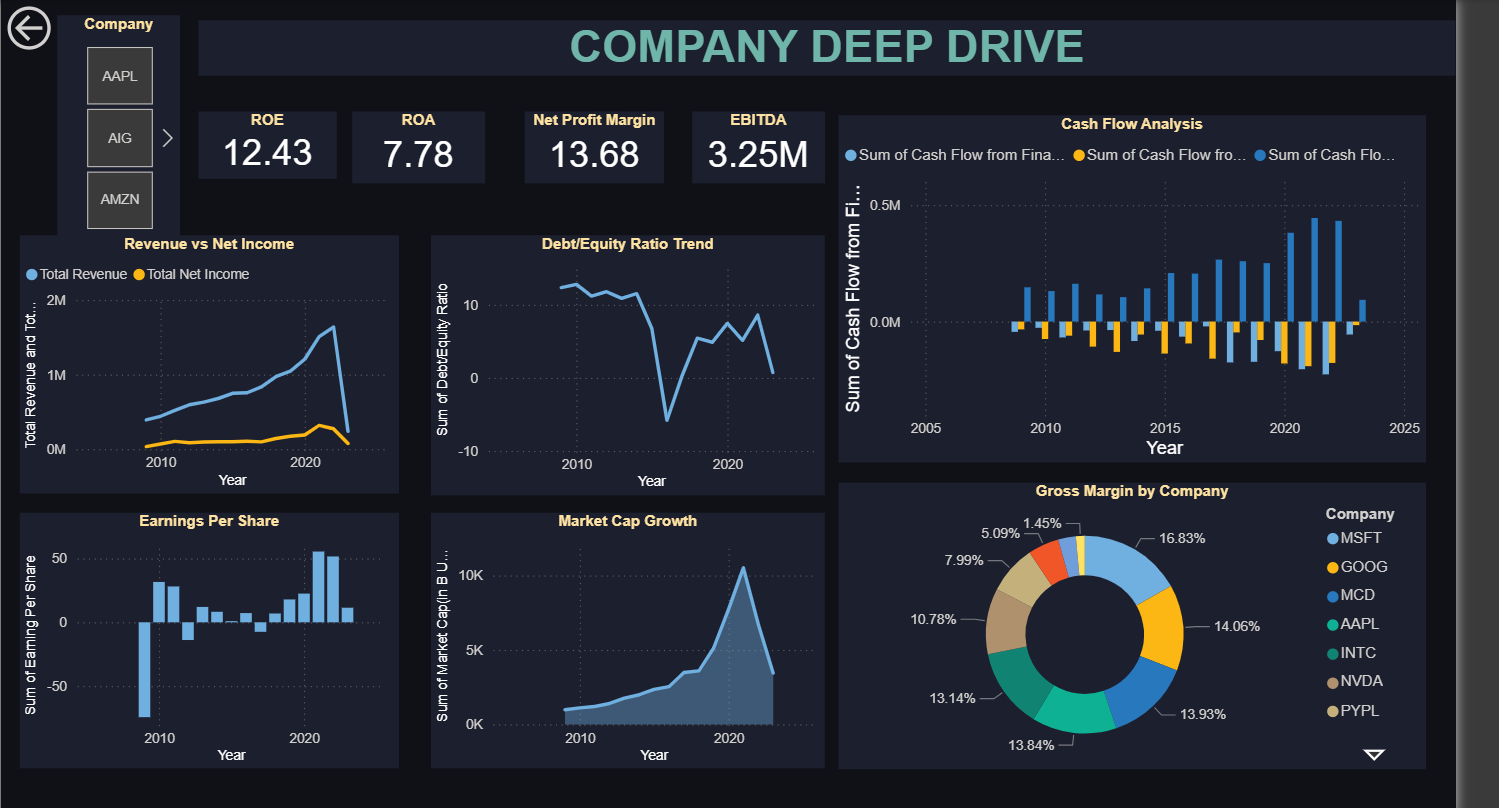

Layout of this report page (visuals, bound fields, positions):
{"tool":"powerbi","page":{"name":"Company Deep Drive","canvas":[1280,720],"ordinal":1},"visuals":[{"type":"actionButton","box":[0,0,49.5,51.7],"z":0},{"type":"textbox","title":"COMPANY DEEP DRIVE","box":[173.8,19,1106,48.8],"z":1000},{"type":"slicer","title":"Company","fields":{"Values":["Financial Statements.Company "]},"box":[50,14.3,108.3,194],"z":2000},{"type":"card","title":"ROE","fields":{"Values":["Avg(Financial Statements.ROE)"]},"box":[173.8,98.8,121.4,59.5],"z":3000},{"type":"card","title":"ROA","fields":{"Values":["Avg(Financial Statements.ROA)"]},"box":[309.5,98.8,116.7,63.1],"z":4000},{"type":"card","title":"Net Profit Margin","fields":{"Values":["Avg(Financial Statements.Net Profit Margin)"]},"box":[460.7,98.8,122.6,63.1],"z":5000},{"type":"card","title":"EBITDA","fields":{"Values":["Financial Statements.Total EBITDA"]},"box":[608.3,98.8,116.7,63.1],"z":6000},{"type":"lineChart","title":" Revenue vs Net Income","fields":{"Category":["Financial Statements.Year"],"Y":["Financial Statements.Total Revenue","Financial Statements.Total Net Income"]},"box":[16.7,208.3,333.3,227],"z":7000},{"type":"clusteredColumnChart","title":"Cash Flow Analysis","fields":{"Category":["Financial Statements.Year"],"Y":["Sum(Financial Statements.Cash Flow from Financial Activities)","Sum(Financial Statements.Cash Flow from Investing)","Sum(Financial Statements.Cash Flow from Operating)"]},"box":[736.9,102.4,516.7,306],"z":8000},{"type":"lineChart","title":"Debt/Equity Ratio Trend","fields":{"Category":["Financial Statements.Year"],"Y":["Sum(Financial Statements.Debt/Equity Ratio)"]},"box":[378.6,208.3,346.4,228.6],"z":9000},{"type":"clusteredColumnChart","title":"Earnings Per Share","fields":{"Category":["Financial Statements.Year"],"Y":["Sum(Financial Statements.Earning Per Share)"]},"box":[16.7,452.4,333.3,225],"z":10000},{"type":"areaChart","title":" Market Cap Growth","fields":{"Category":["Financial Statements.Year"],"Y":["Sum(Financial Statements.Market Cap(in B USD))"]},"box":[378.6,452.4,346.4,225],"z":11000},{"type":"donutChart","title":"Gross Margin by Company","fields":{"Category":["Financial Statements.Company "],"Y":["Financial Statements.Avg Gross Margin %"]},"box":[736.9,425,516.7,252.4],"z":12000}]}

Visuals, with their boxes on the page's 1280x720 design canvas (x1, y1, x2, y2). These are canvas units, not pixel positions in the 1499x808 screenshot, which may show the page scaled, cropped or inside an application window:
actionButton: 0/0/50/52
"COMPANY DEEP DRIVE" textbox: 174/19/1280/68
"Company" slicer: 50/14/158/208
"ROE" card: 174/99/295/158
"ROA" card: 310/99/426/162
"Net Profit Margin" card: 461/99/583/162
"EBITDA" card: 608/99/725/162
" Revenue vs Net Income" lineChart: 17/208/350/435
"Cash Flow Analysis" clusteredColumnChart: 737/102/1254/408
"Debt/Equity Ratio Trend" lineChart: 379/208/725/437
"Earnings Per Share" clusteredColumnChart: 17/452/350/677
" Market Cap Growth" areaChart: 379/452/725/677
"Gross Margin by Company" donutChart: 737/425/1254/677
